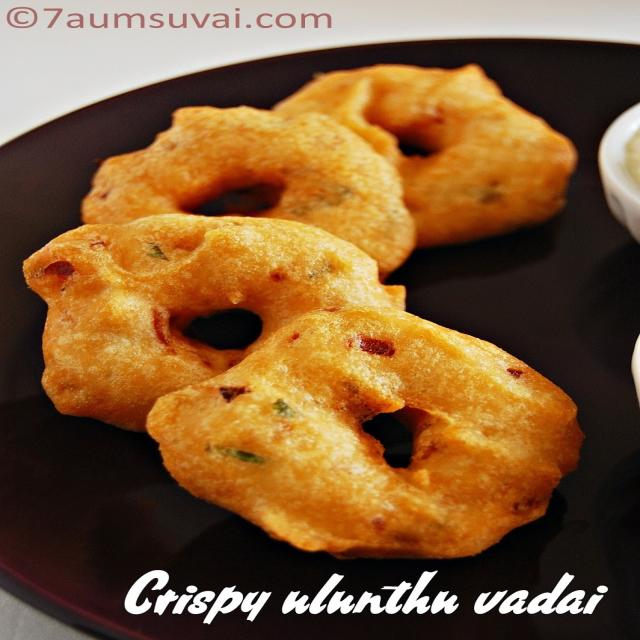medu vadai: (147, 307, 582, 558), (24, 214, 405, 431), (82, 107, 415, 278), (274, 65, 577, 247)
